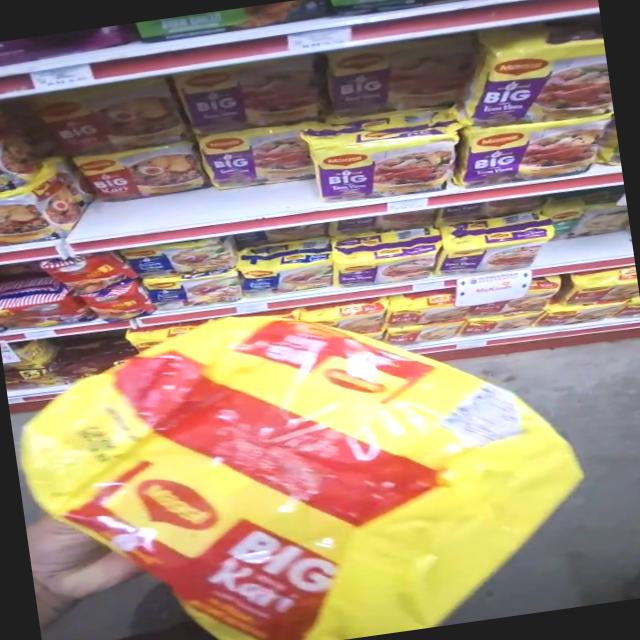Maggi: (35, 284, 603, 640), (14, 205, 562, 339), (289, 112, 469, 213), (471, 36, 614, 130), (472, 116, 610, 187), (82, 144, 212, 208), (216, 130, 294, 186)
